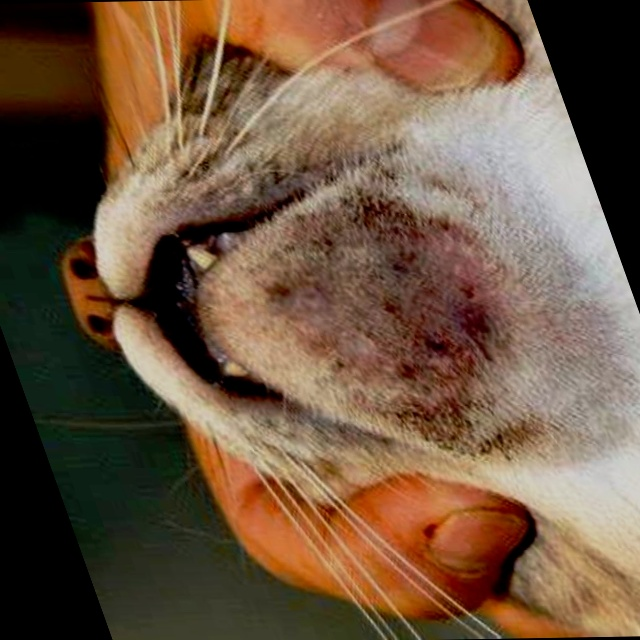acne: (230, 184, 550, 441)
